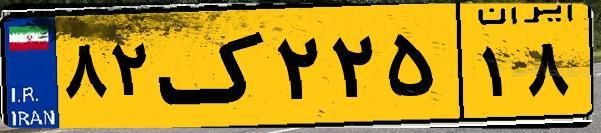1: (475, 38, 525, 113)
2: (270, 28, 330, 110), (330, 28, 385, 110), (110, 28, 158, 98)
5: (385, 28, 445, 110)
8: (57, 26, 110, 100), (525, 38, 570, 115)
ک: (158, 12, 270, 120)
